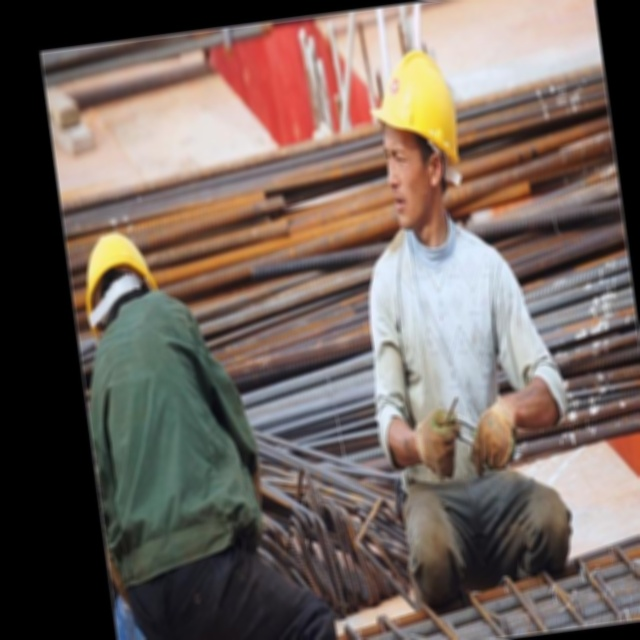Con_Casco: (369, 39, 471, 233)
Sin_Chaleco: (357, 232, 534, 484)
